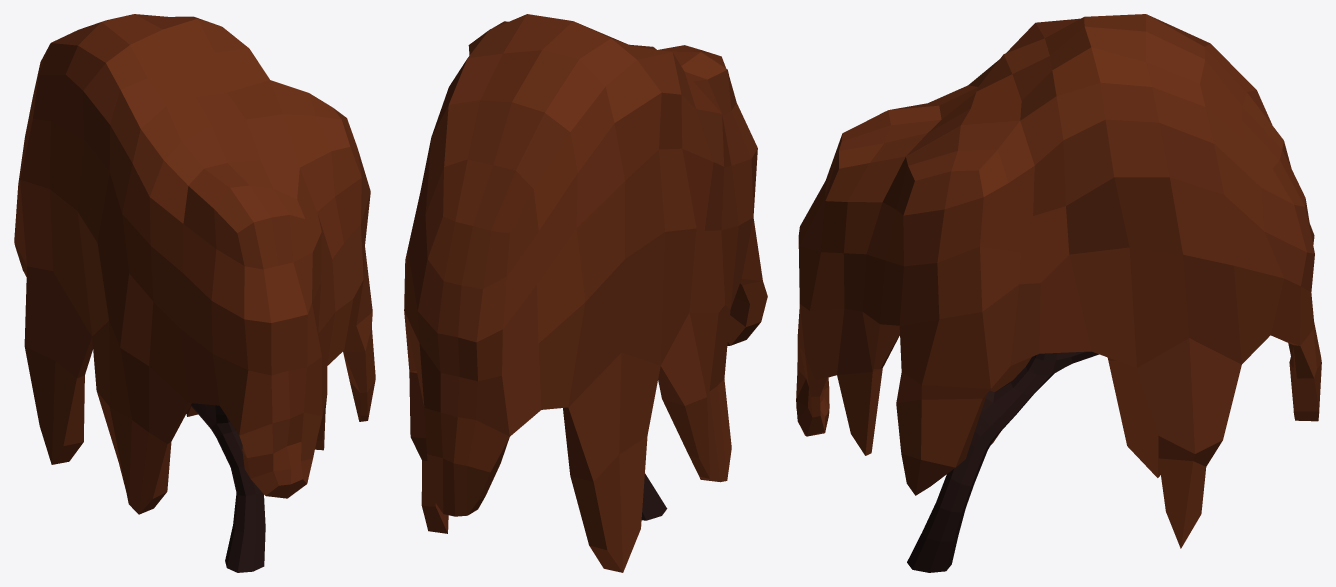
File: Willow_Autumn_1.obj
3 renders of one model, left to right at view 1: azimuth 30°, elevation 25°; view 2: azimuth 150°, elevation 25°; view 3: azimuth 270°, elevation 25°, orthographic. The views are drawn at different scales.
Visible parts, largest first — view 1: Willow_Autumn_1_Cube.088; view 2: Willow_Autumn_1_Cube.088; view 3: Willow_Autumn_1_Cube.088.
Part boxes in pixels (x1,y1,x2,y2): Willow_Autumn_1_Cube.088: (14, 14, 375, 572); Willow_Autumn_1_Cube.088: (404, 14, 767, 572); Willow_Autumn_1_Cube.088: (796, 14, 1321, 572).
Bounding box in the file's own units: 1.45 × 2.85 × 2.55.
